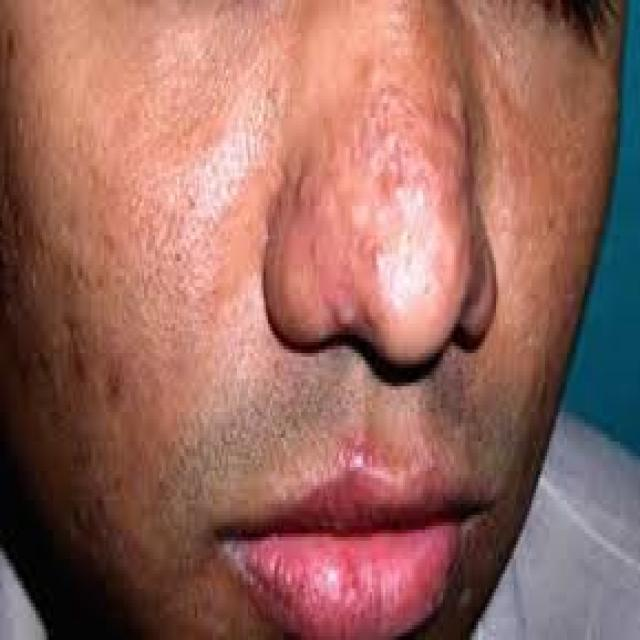Rosacea: (283, 200, 359, 342), (368, 89, 411, 185)
